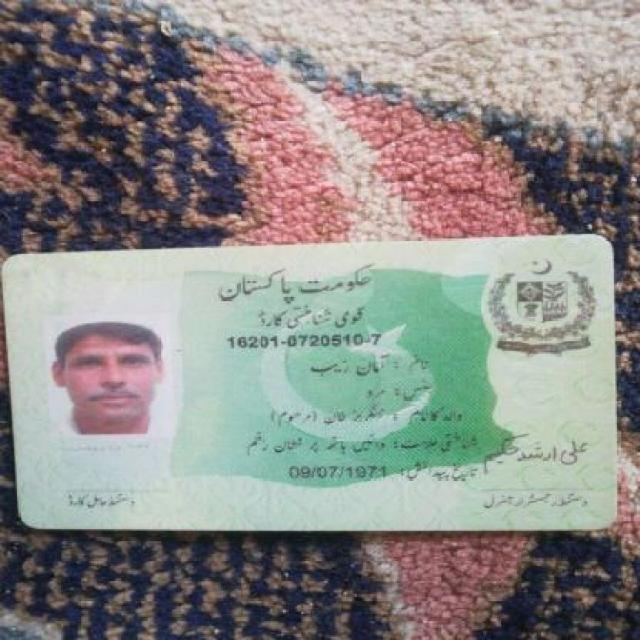Front: (6, 252, 620, 528)
